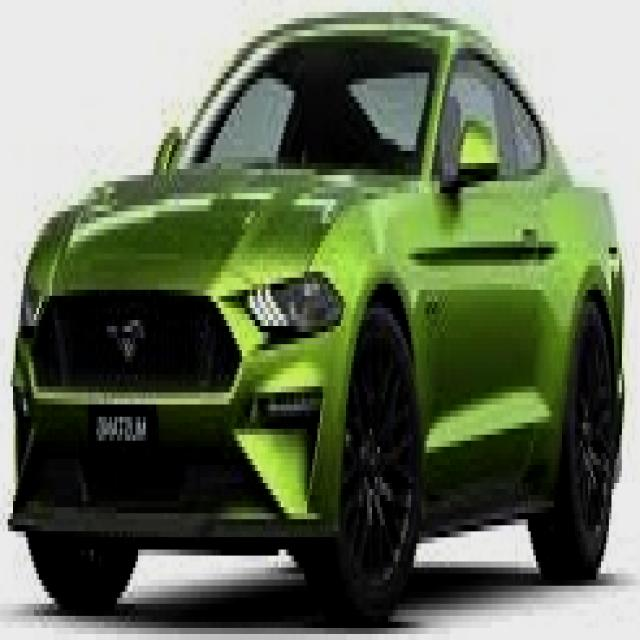green: (10, 6, 627, 640)
